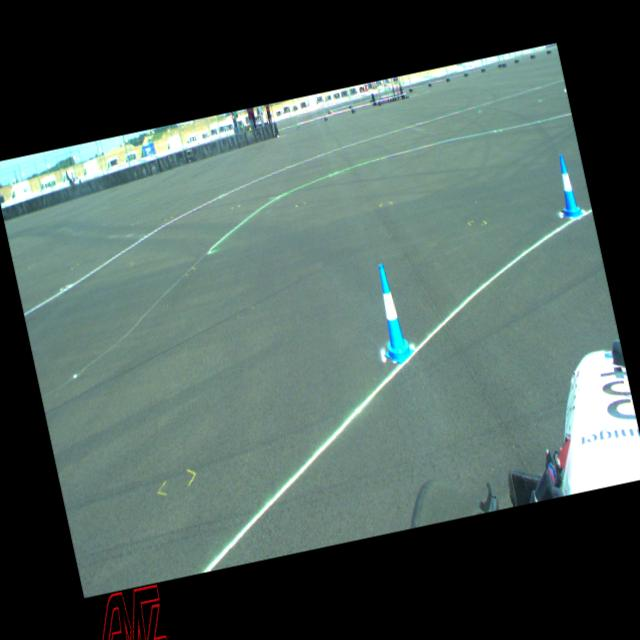blue_cone: (366, 260, 416, 367), (550, 152, 584, 220)
